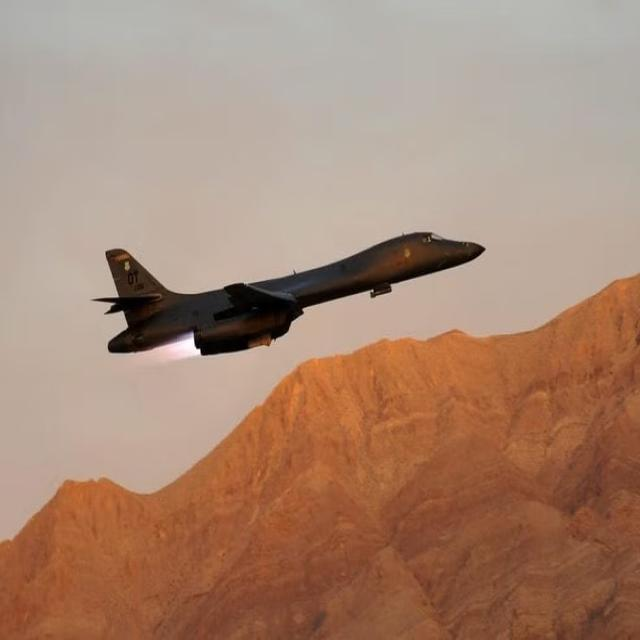B1: (96, 107, 510, 454)
